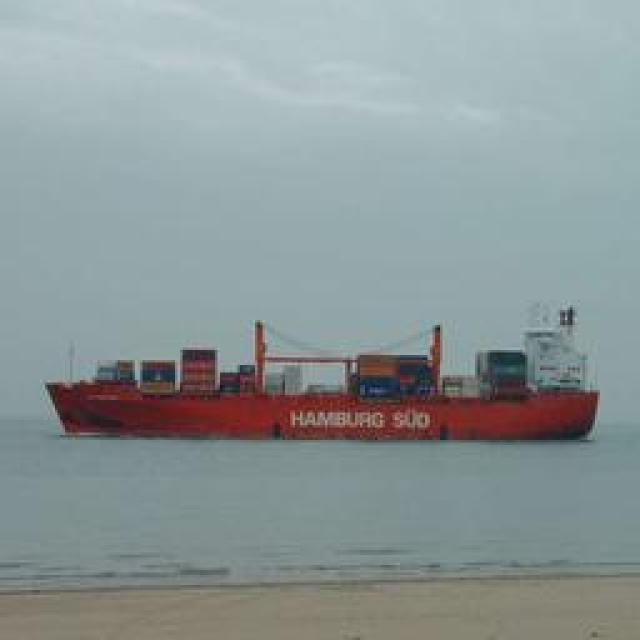ship2: (45, 299, 601, 441)
